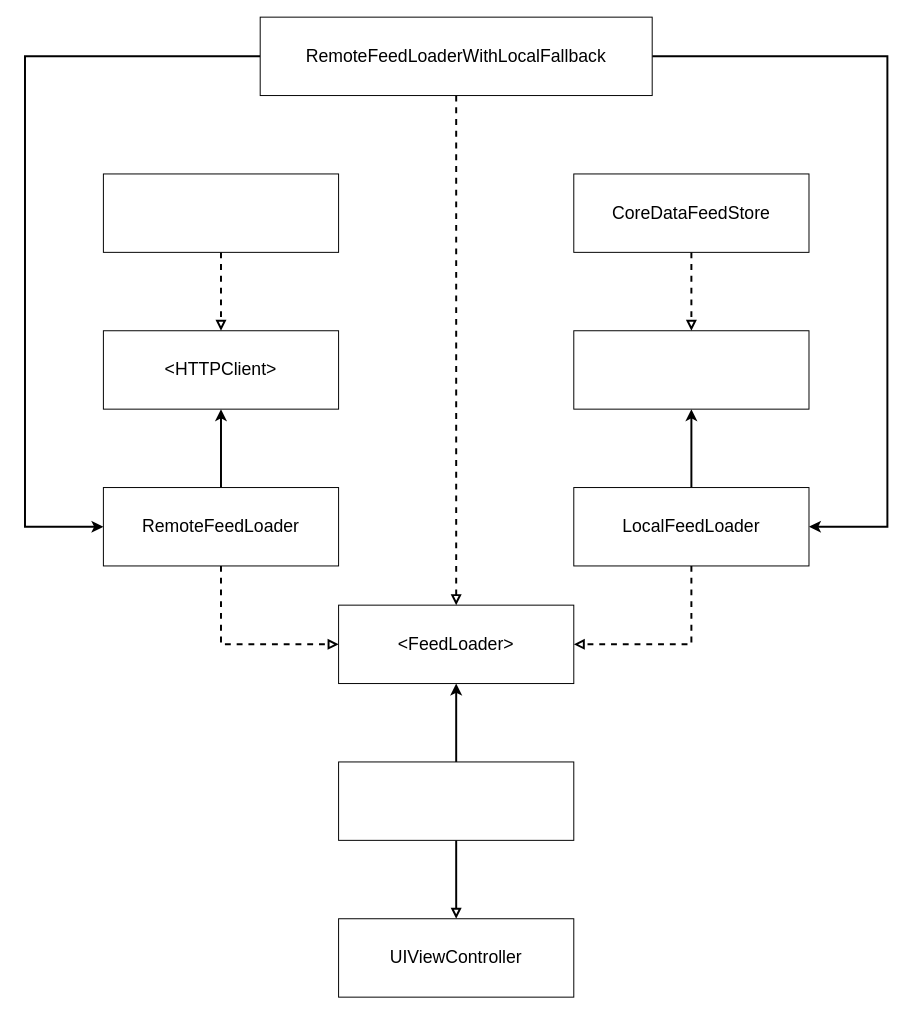
This 912x1014 diagram has some shape labels left out. Here are the shapes that lost their labels. From the top down, the centre of each, then its label:
At point 220,212: "URLSessionHTTPClient".
At point 691,369: "<FeedStore>".
At point 456,800: "MyViewController".
